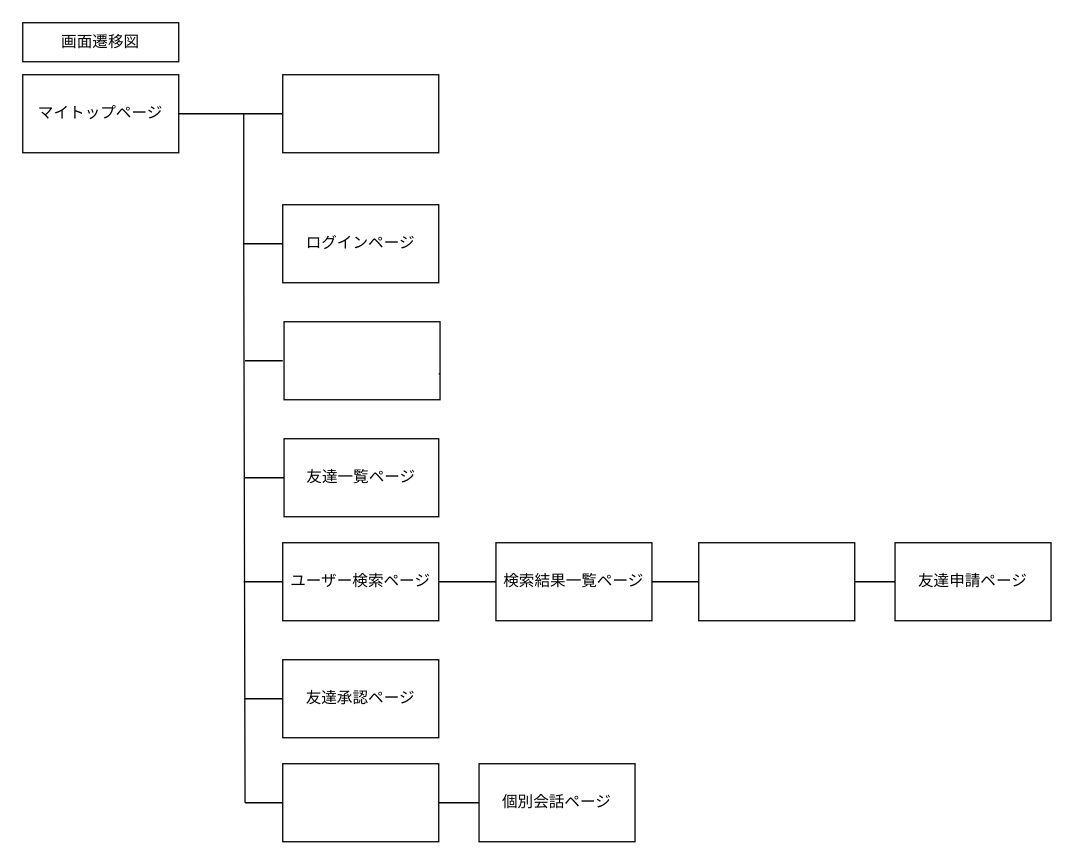
This 1074x864 diagram has some shape labels left out. Here are the shapes that lost their labels. From the top down, the box of each, then its label:
(281, 73, 439, 153): 新規登録ページ
(283, 320, 440, 400): 編集ページ
(697, 541, 855, 621): ユーザー詳細ページ
(281, 762, 439, 842): 友達会話ページ
